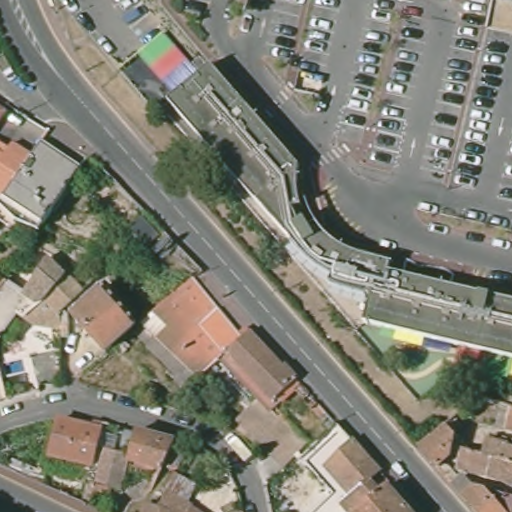pool: (2, 359, 28, 374)
